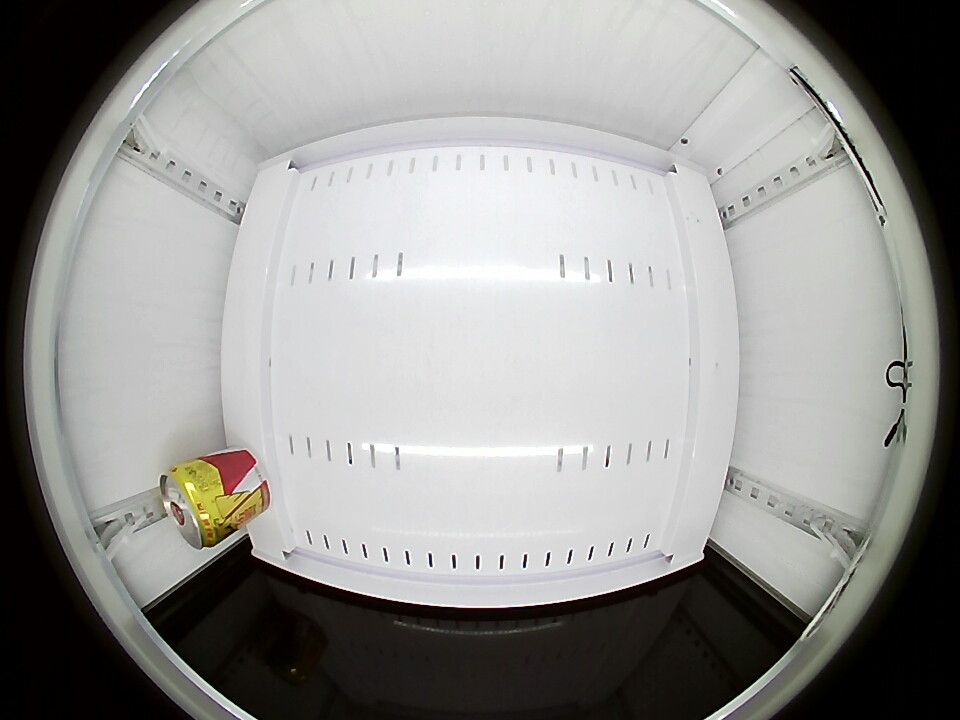dongpeng: (159, 461, 226, 550)
